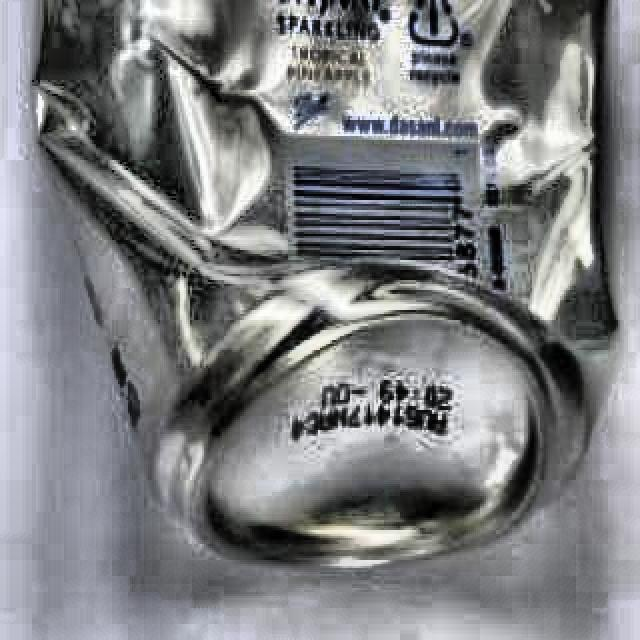metal: (31, 0, 632, 568)
